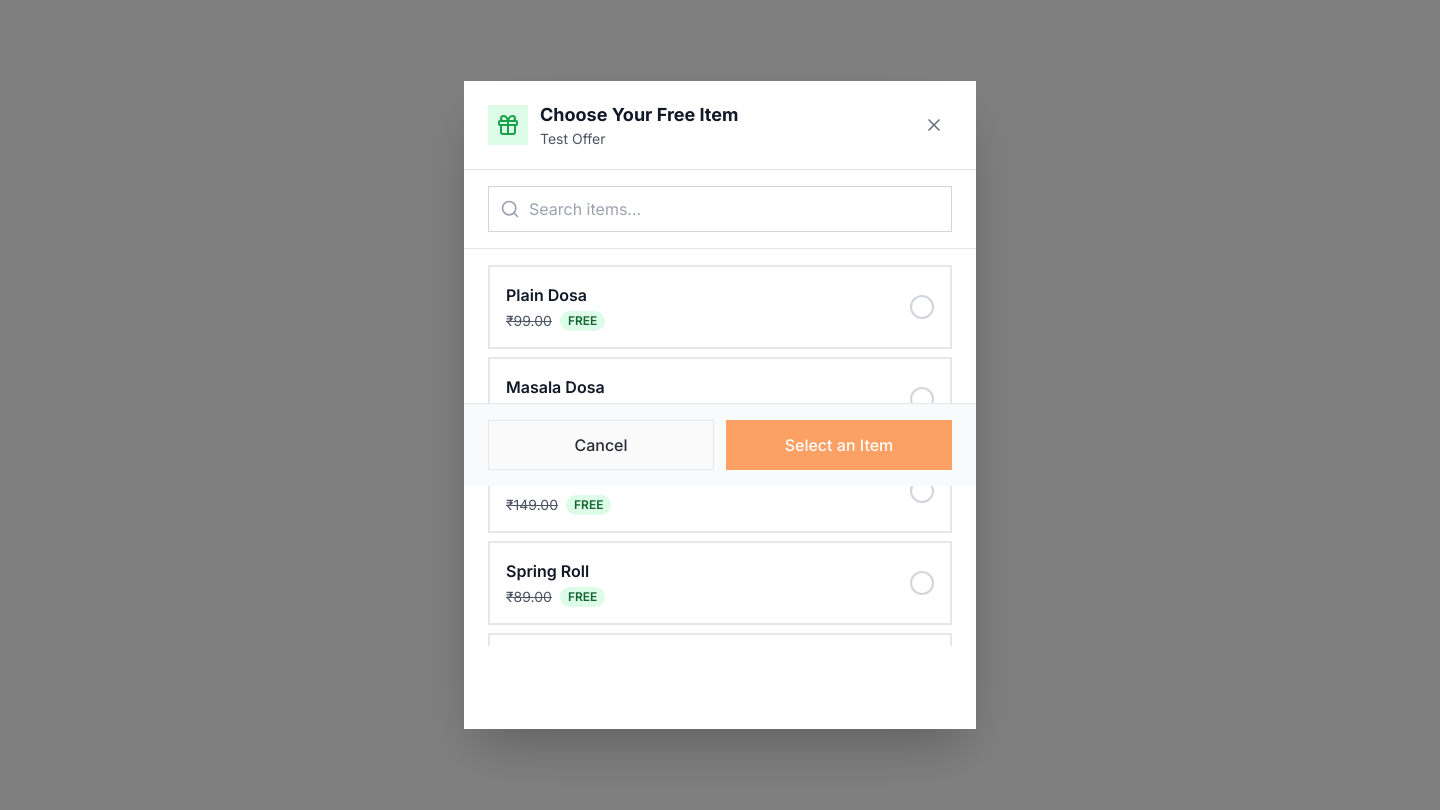
it: FreeItemSelector Component - Guest UI › Search Functionality › should be case insensitive when searching
In the field with placeholder "Search items...": coordinates (720, 209) [488, 186, 952, 232], type "ROLL"
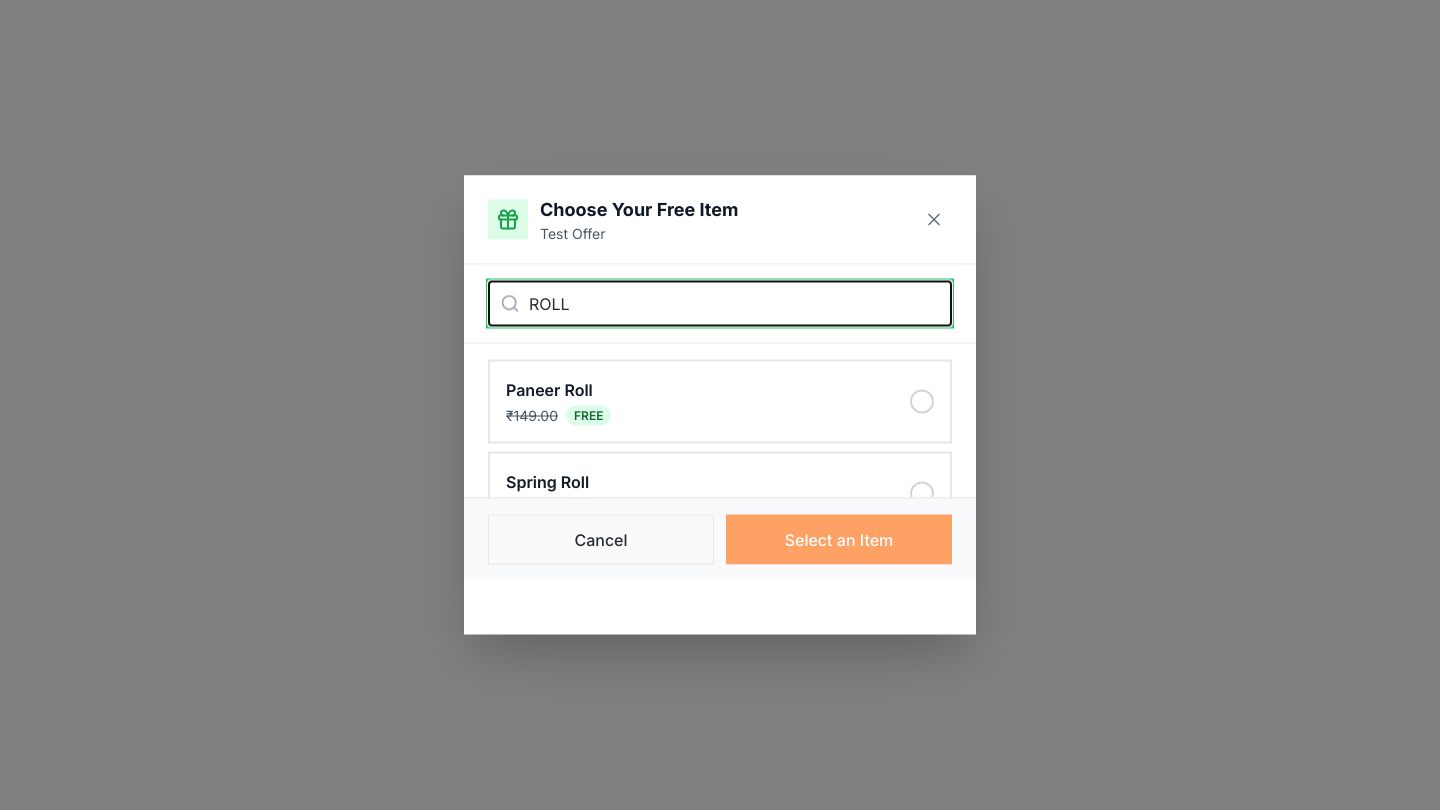
Check: the heading "Paneer Roll" is shown, box [506, 378, 593, 402]
Check: the button "Plain Dosa" is gone
